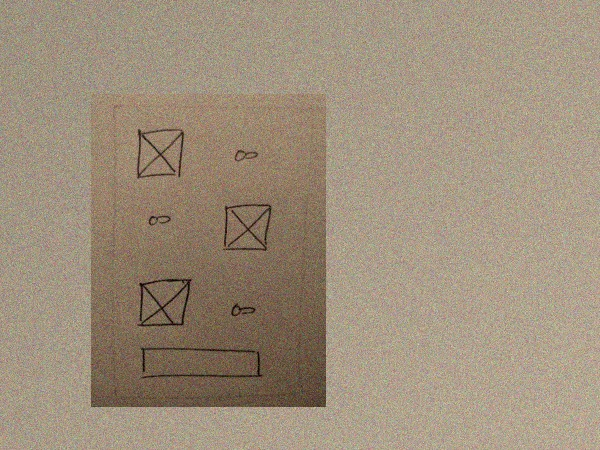image: (217, 200, 276, 255), (135, 278, 194, 331), (133, 126, 188, 182)
switch: (142, 209, 177, 233), (224, 297, 260, 320), (229, 141, 262, 166)
text_input: (137, 343, 266, 385)
